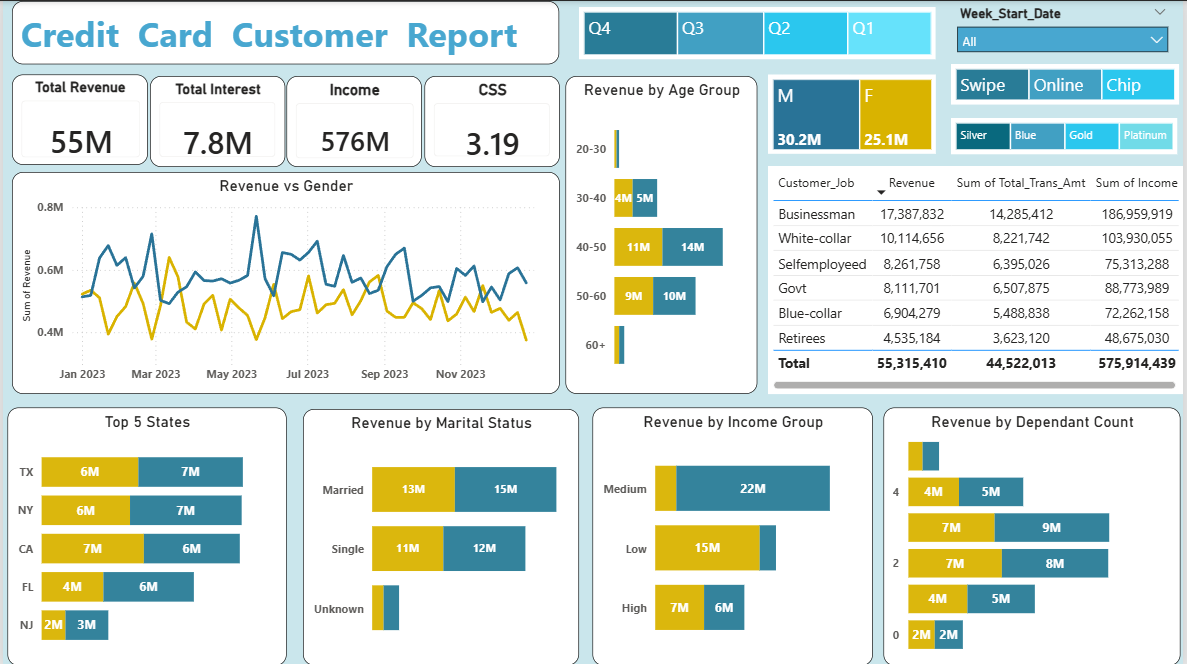

Layout of this report page (visuals, bound fields, positions):
{"tool":"powerbi","page":{"name":"CC Customer","canvas":[1280,720],"ordinal":1},"visuals":[{"type":"textbox","box":[10,0,593.3,68.3],"z":0},{"type":"barChart","title":"Revenue by Dependant Count","fields":{"Y":["Sum(credit_card.Revenue)"],"Category":["customer.Dependent_Count"],"Series":["customer.Gender"]},"box":[954.8,440.8,322.1,279.8],"z":1000},{"type":"tableEx","fields":{"Values":["customer.Customer_Job","Sum(credit_card.Revenue)","Sum(credit_card.Total_Trans_Amt)","Sum(customer.Income)"]},"box":[829.5,178.9,450.6,247.2],"z":2000},{"type":"cardVisual","title":"Total Revenue","fields":{"Data":["Sum(credit_card.Revenue)"]},"box":[9.8,80.1,147,98],"z":3000},{"type":"cardVisual","title":"Total Interest","fields":{"Data":["Sum(credit_card.Interest_Earned)"]},"box":[160,81.7,146.7,98.3],"z":4000},{"type":"cardVisual","title":"Income","fields":{"Data":["Sum(customer.Income)"]},"box":[306.7,81.7,146.7,98.3],"z":5000},{"type":"cardVisual","title":"CSS","fields":{"Data":["Avg(customer.Cust_Satisfaction_Score)"]},"box":[456.7,81.7,146.7,98.3],"z":6000},{"type":"treemap","fields":{"Group":["credit_card.Qtr"],"Values":["Avg(credit_card.Client_Num)"]},"box":[625,6.7,386.7,56.7],"z":7000},{"type":"treemap","fields":{"Group":["credit_card.Use Chip"],"Values":["Avg(credit_card.Client_Num)"]},"box":[1028,68.3,247.2,43.9],"z":8000},{"type":"treemap","fields":{"Group":["credit_card.Card_Category"],"Values":["Avg(credit_card.Client_Num)"]},"box":[1028,126.9,245.6,39],"z":9000},{"type":"slicer","fields":{"Values":["credit_card.Week_Start_Date"]},"box":[1024.7,0,248.9,63.4],"z":10000},{"type":"lineChart","title":"Revenue vs Gender","fields":{"Y":["Sum(credit_card.Revenue)"],"Series":["customer.Gender"],"Category":["credit_card.Week_Start_Date.Variation.Date Hierarchy.Year","credit_card.Week_Start_Date.Variation.Date Hierarchy.Month","credit_card.Week_Start_Date.Variation.Date Hierarchy.Day"]},"box":[9.8,185.4,593.7,240.7],"z":11000},{"type":"treemap","fields":{"Values":["Sum(credit_card.Revenue)"],"Group":["customer.Gender"]},"box":[829.5,79.7,182.2,86.2],"z":12000},{"type":"barChart","title":"Revenue by Age Group","fields":{"Y":["Sum(credit_card.Revenue)"],"Category":["customer.AgeGroup"],"Series":["customer.Gender"]},"box":[610,81.3,208.2,344.8],"z":13000},{"type":"barChart","title":"Top 5 States","fields":{"Y":["Sum(credit_card.Revenue)"],"Category":["customer.state_cd"],"Series":["customer.Gender"]},"box":[4.9,440.8,302.5,279.8],"z":14000},{"type":"barChart","title":"Revenue by Income Group","fields":{"Y":["Sum(credit_card.Revenue)"],"Category":["customer.IncomeGroup"],"Series":["customer.Gender"]},"box":[639.2,440.8,304.2,279.8],"z":15000},{"type":"barChart","title":"Revenue by Marital Status","fields":{"Y":["Sum(credit_card.Revenue)"],"Category":["customer.Marital_Status"],"Series":["customer.Gender"]},"box":[325.3,442.4,299.3,278.1],"z":16000}]}

Visuals, with their boxes in screenshot pixels (x1, y1, x2, y2), scaled from the page's 1280x720 canvas onto the 1187x664 screenshot:
textbox: l=9, t=0, r=559, b=63
"Revenue by Dependant Count" barChart: l=885, t=407, r=1184, b=663
tableEx - customer.Customer_Job x Sum(credit_card.Revenue): l=769, t=165, r=1186, b=393
"Total Revenue" cardVisual: l=9, t=74, r=145, b=164
"Total Interest" cardVisual: l=148, t=75, r=284, b=166
"Income" cardVisual: l=284, t=75, r=420, b=166
"CSS" cardVisual: l=424, t=75, r=560, b=166
treemap - credit_card.Qtr x Avg(credit_card.Client_Num): l=580, t=6, r=938, b=58
treemap - credit_card.Use Chip x Avg(credit_card.Client_Num): l=953, t=63, r=1183, b=103
treemap - credit_card.Card_Category x Avg(credit_card.Client_Num): l=953, t=117, r=1181, b=153
slicer - credit_card.Week_Start_Date: l=950, t=0, r=1181, b=58
"Revenue vs Gender" lineChart: l=9, t=171, r=560, b=393
treemap - Sum(credit_card.Revenue) x customer.Gender: l=769, t=74, r=938, b=153
"Revenue by Age Group" barChart: l=566, t=75, r=759, b=393
"Top 5 States" barChart: l=5, t=407, r=285, b=663
"Revenue by Income Group" barChart: l=593, t=407, r=875, b=663
"Revenue by Marital Status" barChart: l=302, t=408, r=579, b=663
